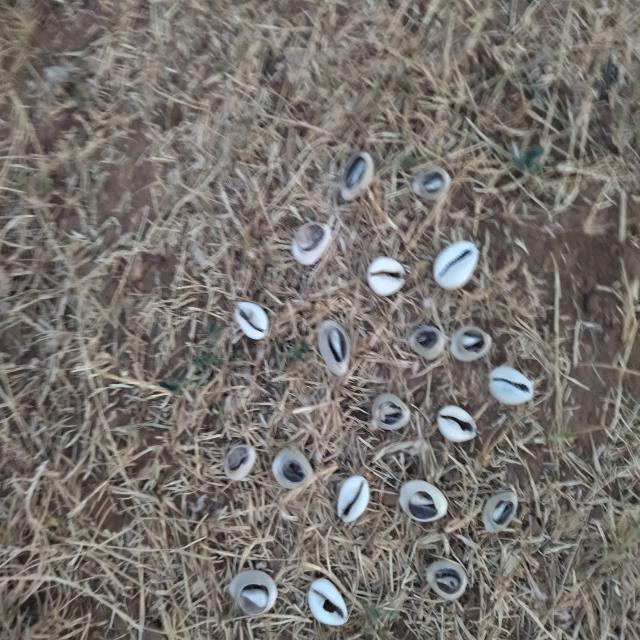facedown: (395, 470, 450, 532), (227, 566, 284, 622), (315, 318, 357, 383), (268, 444, 320, 496), (411, 156, 459, 209), (422, 554, 472, 604), (336, 144, 375, 206), (290, 218, 334, 271), (370, 386, 417, 433), (478, 488, 522, 534), (450, 323, 496, 364), (224, 438, 261, 482), (409, 322, 446, 362)
faceup: (432, 232, 482, 292), (482, 362, 538, 412), (306, 573, 354, 631), (362, 250, 412, 302), (332, 475, 379, 526), (230, 294, 276, 346), (434, 401, 480, 445)
